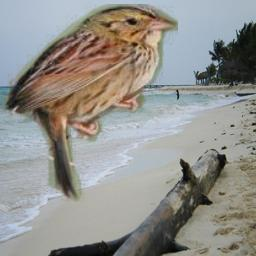Sparrow: (1, 4, 178, 205)
